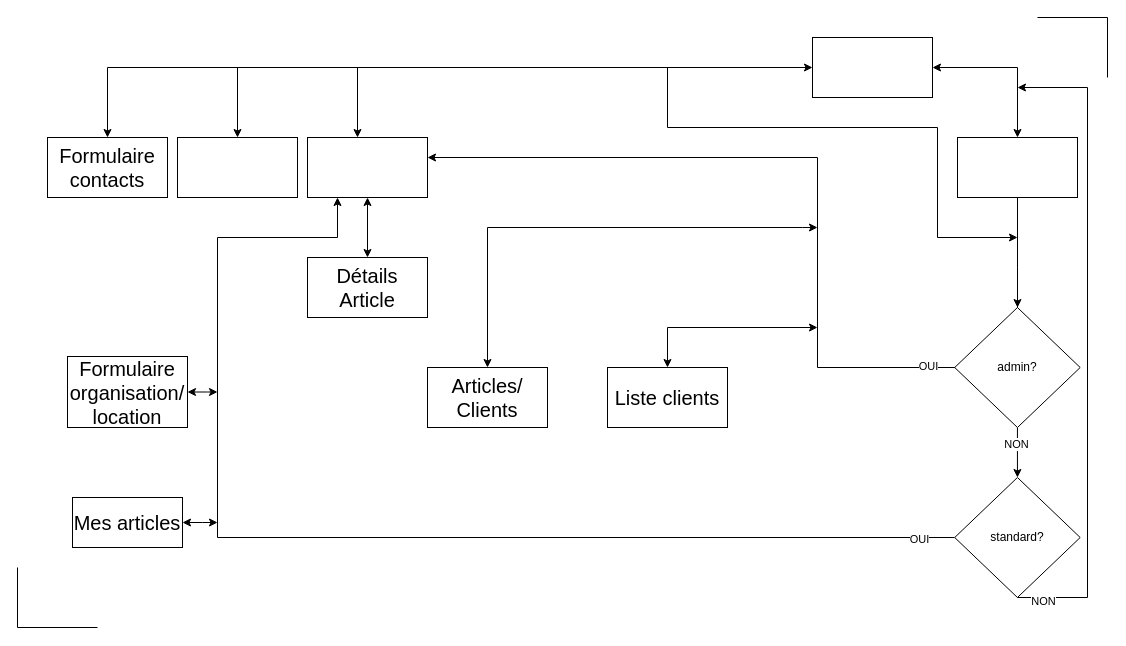
Image size: 1126x646. Some labels were removed from this diagram. The shapes that lost their labels are listed below. From the top down, each one's centre as x and y in pixels, then its label:
At (872,67): "Accueil".
At (237,167): "A propos de nous".
At (367,167): "Articles".
At (1017,167): "Login".
